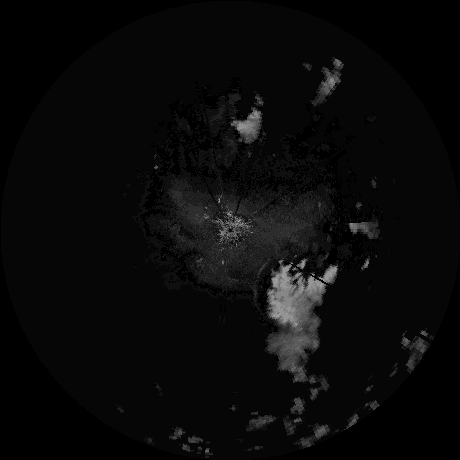frontgust: (251, 260, 268, 314)
